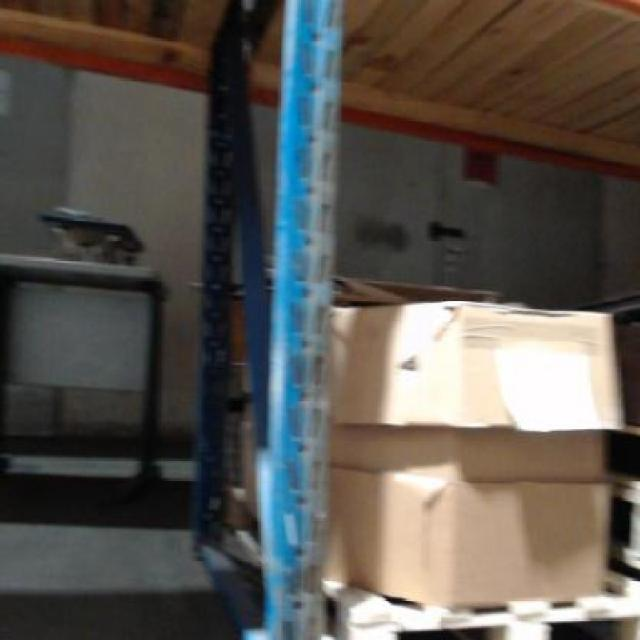ground: (0, 505, 245, 638)
pallet: (312, 567, 638, 638), (605, 478, 638, 572)
